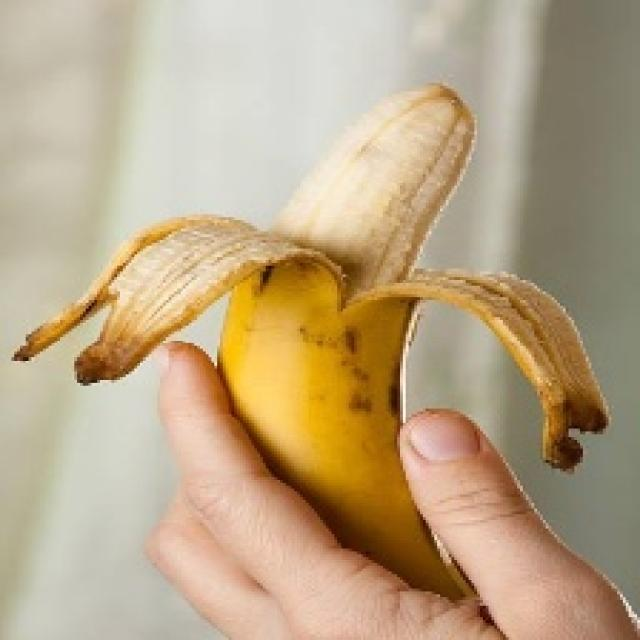Banana: (11, 80, 608, 600)
